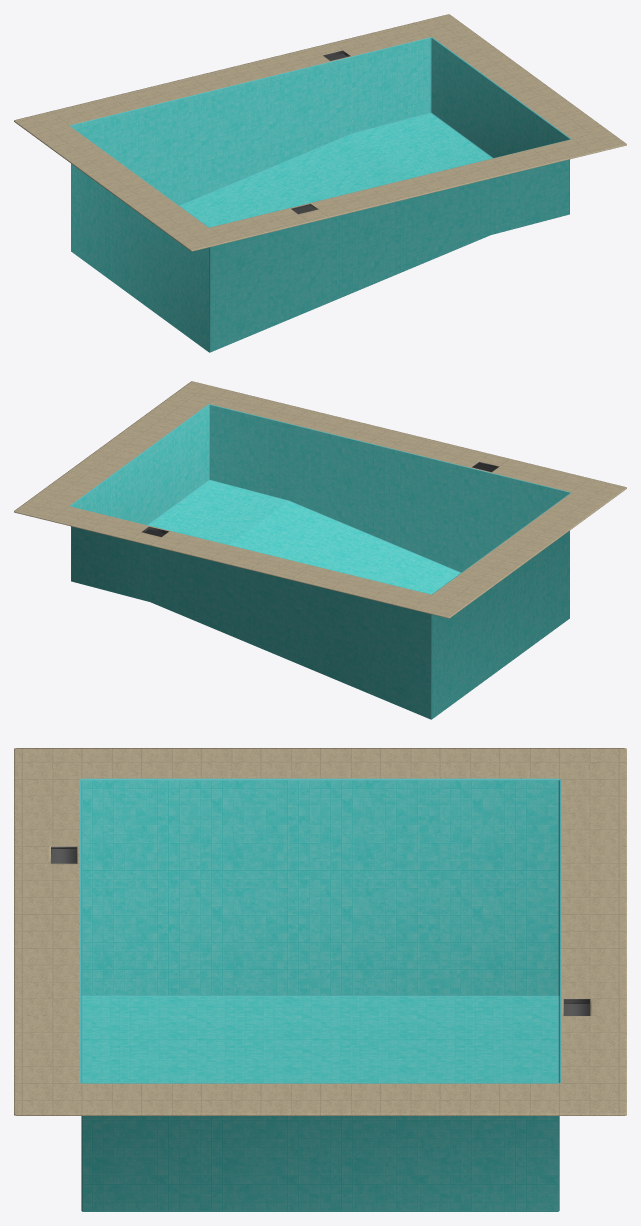
The model's file is Pool.glb.
3 views of the same model, one above another, from view 1: azimuth 30°, elevation 25°; view 2: azimuth 150°, elevation 25°; view 3: azimuth 270°, elevation 25° (orthographic). The views are drawn at different scales.
Parts seen in each view (by area): view 1: Pool Main; view 2: Pool Main; view 3: Pool Main.
Boxes of the visible parts, bbox=[...] form: Pool Main: bbox=[14, 14, 626, 352]; Pool Main: bbox=[14, 381, 626, 719]; Pool Main: bbox=[14, 748, 626, 1211].
Bounding box in the file's own units: 7.25 × 2 × 5.13.
5 materials, 3 textured.
